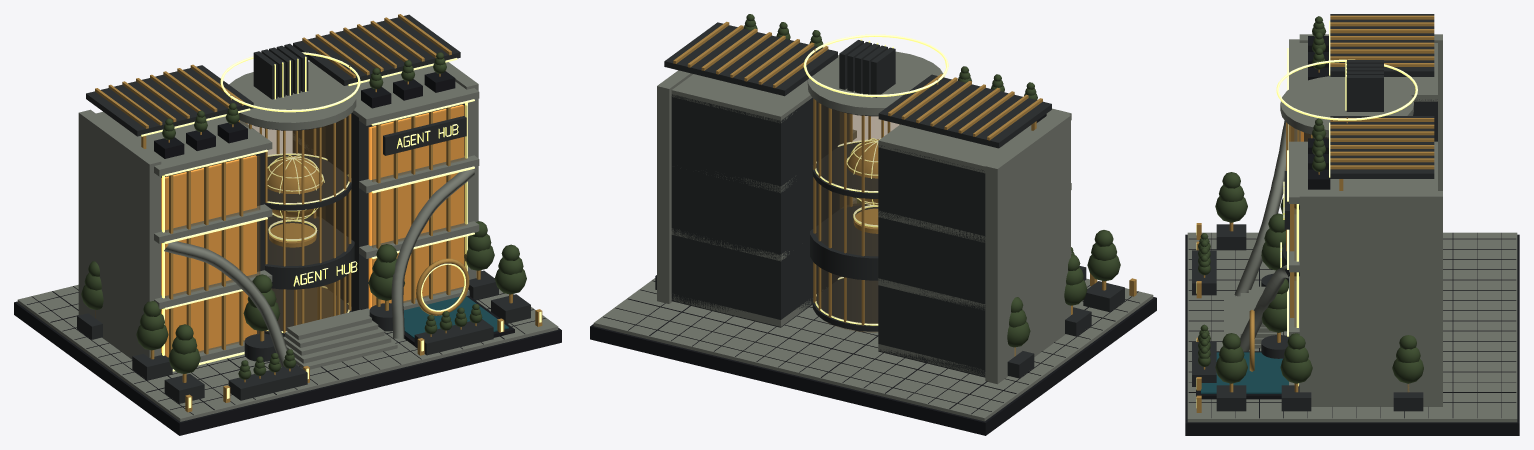
Rendered from agent_hub.glb.
3 renders of one model, left to right at view 1: azimuth 30°, elevation 25°; view 2: azimuth 150°, elevation 25°; view 3: azimuth 270°, elevation 25°, orthographic. The views are drawn at different scales.
Visible parts, largest first — view 1: dark, glass, warm, Neon · PBR + Emissive; view 2: dark, glass, Neon · PBR + Emissive; view 3: dark, Neon · PBR + Emissive, glass.
Boxes of the visible parts, x1,y1,x2,y2 form: dark: (14, 14, 561, 435); glass: (165, 105, 467, 357); warm: (161, 104, 464, 357); Neon · PBR + Emissive: (141, 52, 541, 407); dark: (590, 14, 1156, 435); glass: (815, 100, 899, 332); Neon · PBR + Emissive: (803, 34, 948, 325); dark: (1185, 14, 1519, 435); Neon · PBR + Emissive: (1196, 20, 1417, 407); glass: (1287, 124, 1310, 384).
Bounding box in the file's own units: 12 × 8.11 × 8.99.
Materials: 4 (4 with a texture image).
